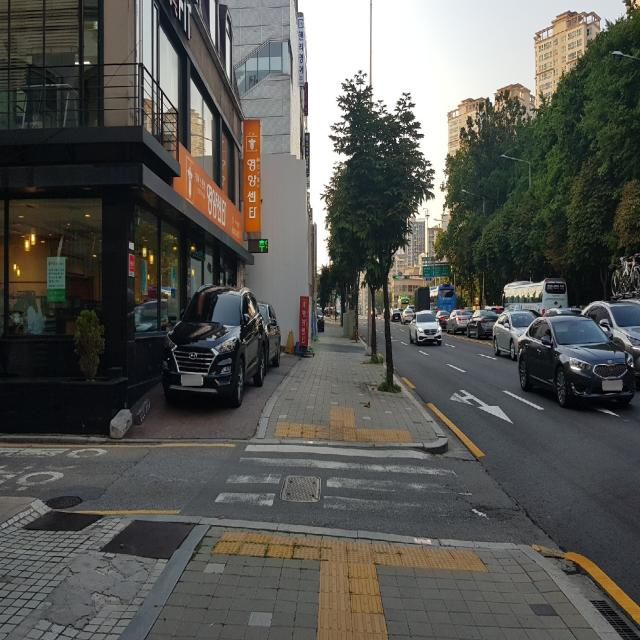횡단보도: (213, 443, 487, 520)
